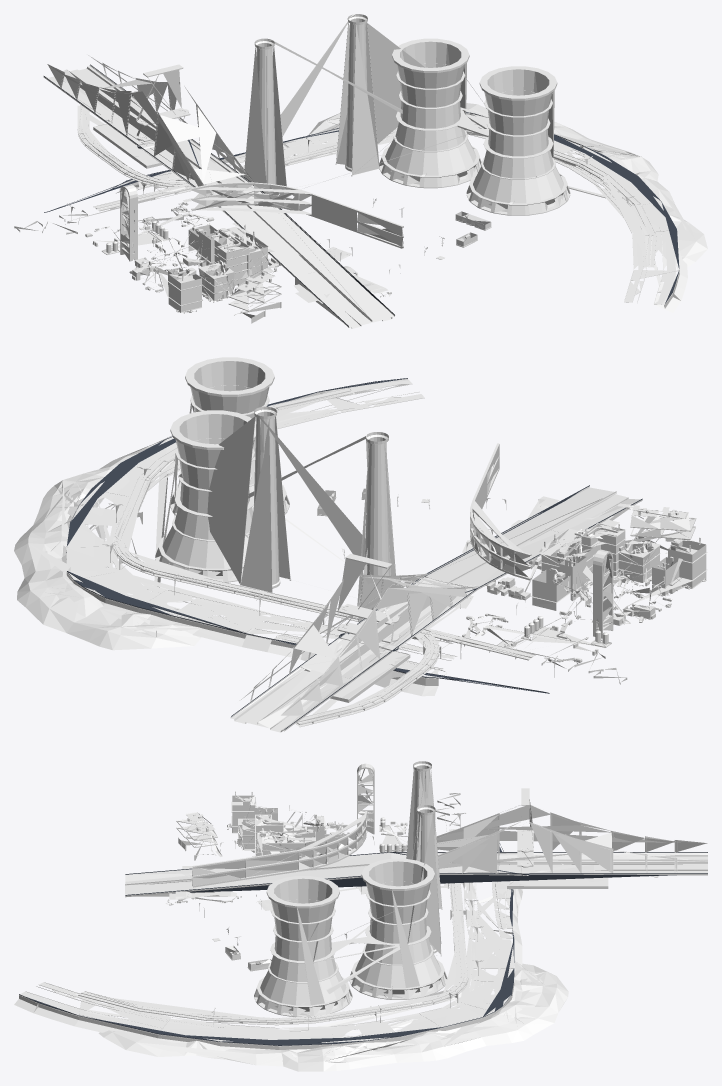
The model's file is street_island1_08.glb.
3 views of the same model, one above another, from view 1: azimuth 30°, elevation 25°; view 2: azimuth 150°, elevation 25°; view 3: azimuth 270°, elevation 25° (orthographic). The views are drawn at different scales.
Parts seen in each view (by area): view 1: seg_431, seg_430, seg_602, seg_1180, seg_1188, seg_685, seg_679, seg_1365, seg_1050, seg_694, seg_1504, seg_1372 (+14 smaller); view 2: seg_431, seg_679, seg_602, seg_430, seg_694, seg_1188, seg_1180, seg_685, seg_1365, seg_1181, seg_1504, seg_1372 (+18 smaller); view 3: seg_431, seg_679, seg_685, seg_1180, seg_602, seg_694, seg_430, seg_1188, seg_1305, seg_1050, seg_1365, seg_1504 (+15 smaller).
Boxes of the visible parts, x1,y1,x2,y2 form: seg_431: [254, 14, 570, 215]; seg_430: [244, 22, 555, 193]; seg_602: [43, 65, 394, 328]; seg_1180: [47, 54, 253, 186]; seg_1188: [132, 224, 274, 312]; seg_685: [554, 137, 687, 312]; seg_679: [308, 103, 707, 266]; seg_1365: [191, 182, 312, 216]; seg_1050: [575, 160, 656, 267]; seg_694: [116, 113, 488, 200]; seg_1504: [554, 134, 679, 303]; seg_1372: [120, 184, 137, 261]; seg_431: [155, 357, 390, 609]; seg_679: [14, 435, 201, 650]; seg_602: [230, 486, 642, 732]; seg_430: [172, 395, 395, 606]; seg_694: [61, 546, 456, 696]; seg_1188: [486, 523, 707, 625]; seg_1180: [235, 573, 480, 715]; seg_685: [66, 378, 424, 547]; seg_1365: [470, 500, 531, 580]; seg_1181: [337, 553, 400, 643]; seg_1504: [66, 378, 407, 546]; seg_1372: [593, 549, 613, 638]; seg_431: [254, 761, 447, 1017]; seg_679: [98, 960, 568, 1071]; seg_685: [14, 982, 442, 1052]; seg_1180: [385, 805, 707, 873]; seg_602: [125, 852, 707, 897]; seg_694: [419, 881, 522, 1033]; seg_430: [267, 769, 442, 983]; seg_1188: [231, 795, 348, 859]; seg_1305: [125, 852, 707, 895]; seg_1050: [78, 991, 318, 1023]; seg_1365: [298, 811, 367, 871]; seg_1504: [19, 994, 442, 1045].
Size of the model in its own units: 495 by 139 by 558.
